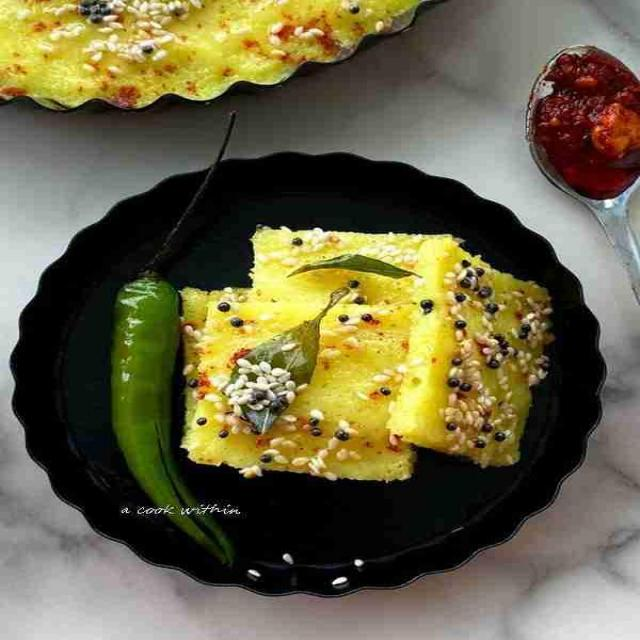dhokla: (162, 206, 553, 494)
